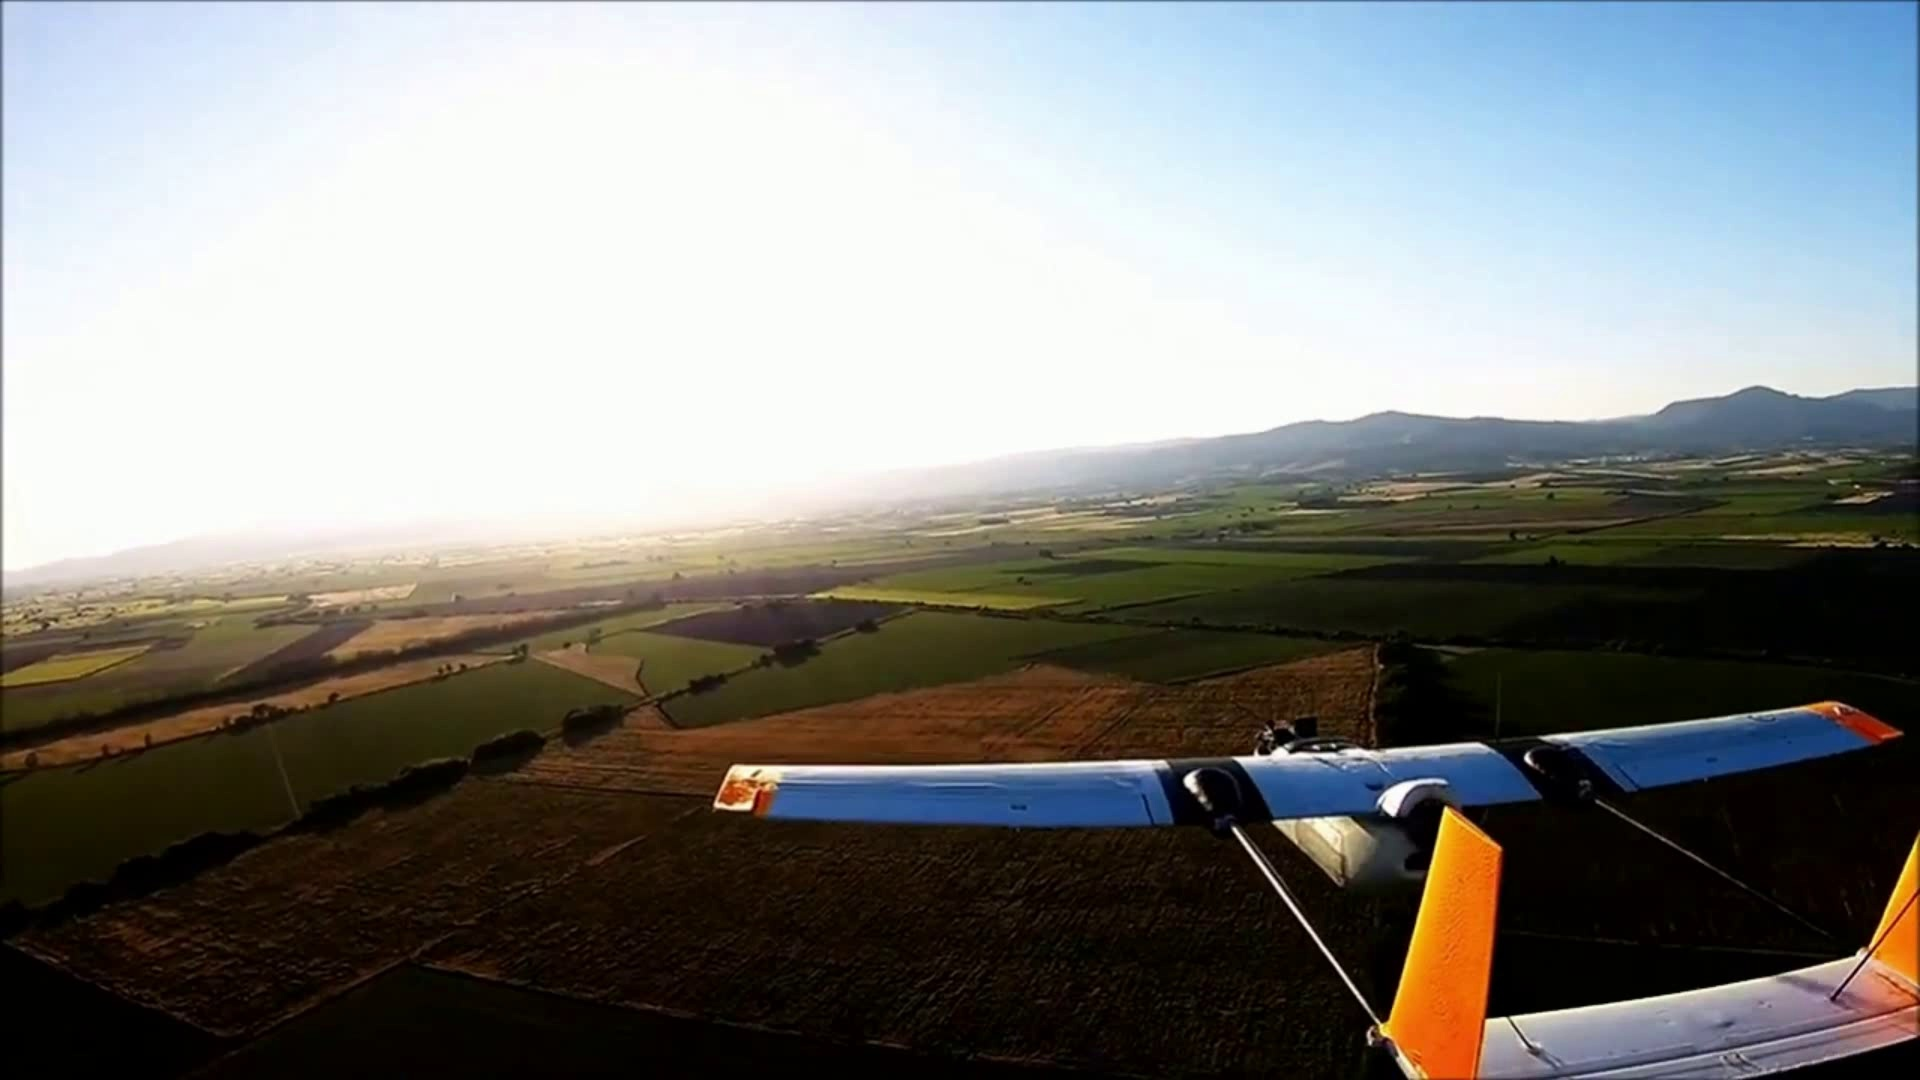airplane: (711, 696, 1915, 1067)
